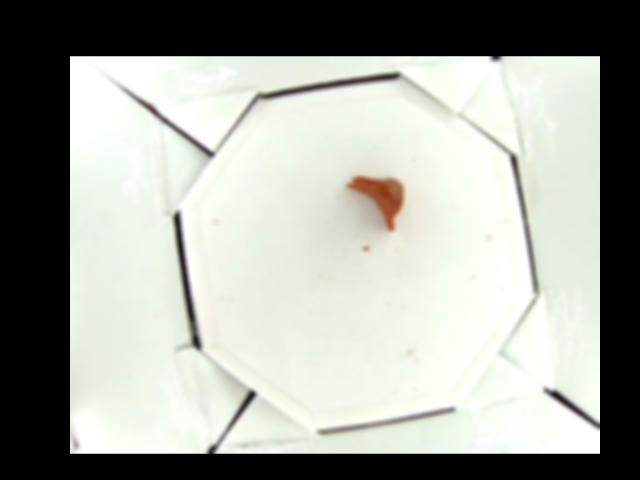Brisk: (343, 174, 403, 230)
